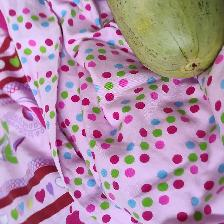gua: (107, 3, 217, 77)
